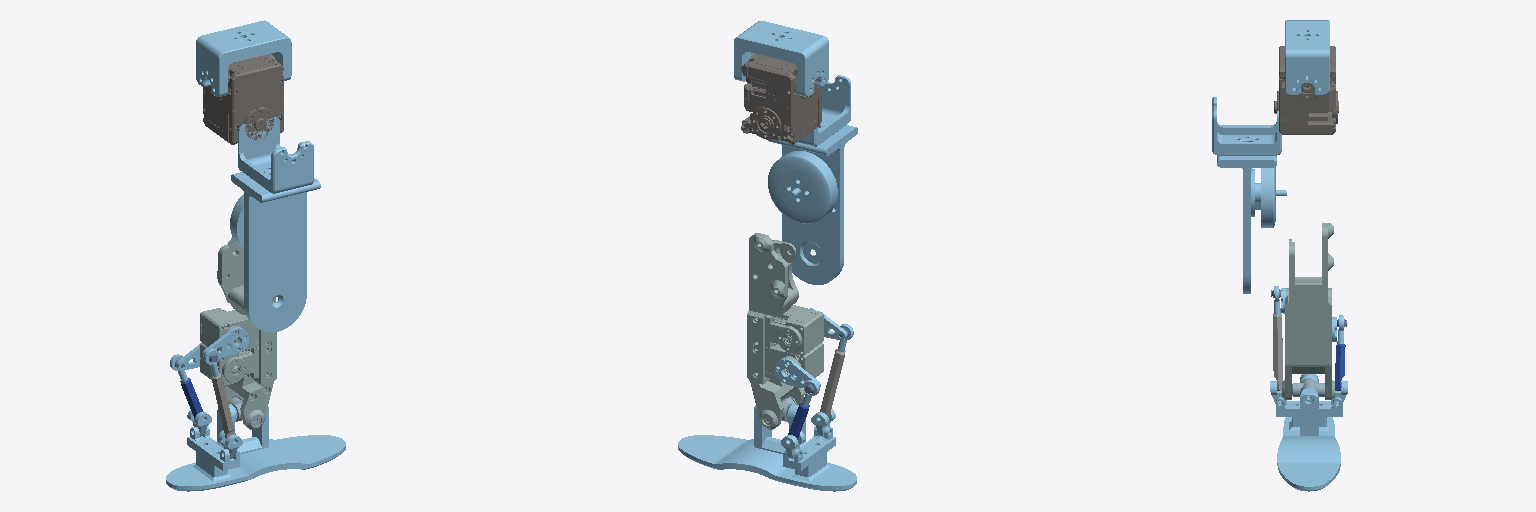
--- What the picture shows (computed from the rendered views, not written in the file) ---
3 views of the same robot in one strip: view 1: azimuth 30°, elevation 25°; view 2: azimuth 150°, elevation 25°; view 3: azimuth 270°, elevation 25° (orthographic).
Model right_leg with 20 links and 19 joints (15 revolute, 4 fixed), rooted at hip_yaw_link, posed all joints at 0.
Links seen in each view (by area): view 1: right_hip_pitch_link, right_calf_link, ank_roll_link, hip_roll_link, hip_yaw_link, ank_motor_arm, ank_motor_rod_long; view 2: right_hip_pitch_link, right_calf_link, ank_roll_link, hip_roll_link, hip_yaw_link, ank_motor_arm_2, ank_motor_rod_long; view 3: right_calf_link, ank_roll_link, right_hip_pitch_link, hip_yaw_link, hip_roll_link, ank_motor_rod_long.
Link boxes in pixels (left/top/right/bottom): right_hip_pitch_link: left=230, top=117, right=320, bottom=332; right_calf_link: left=200, top=236, right=276, bottom=429; ank_roll_link: left=166, top=404, right=345, bottom=491; hip_roll_link: left=203, top=54, right=283, bottom=144; hip_yaw_link: left=196, top=20, right=291, bottom=96; ank_motor_arm: left=203, top=327, right=248, bottom=356; ank_motor_rod_long: left=211, top=373, right=235, bottom=438; right_hip_pitch_link: left=768, top=75, right=857, bottom=284; right_calf_link: left=747, top=233, right=823, bottom=429; ank_roll_link: left=678, top=404, right=856, bottom=491; hip_roll_link: left=741, top=53, right=821, bottom=144; hip_yaw_link: left=734, top=21, right=828, bottom=96; ank_motor_arm_2: left=774, top=358, right=820, bottom=387; ank_motor_rod_long: left=820, top=349, right=845, bottom=417; right_calf_link: left=1282, top=223, right=1334, bottom=399; ank_roll_link: left=1276, top=374, right=1342, bottom=491; right_hip_pitch_link: left=1212, top=97, right=1286, bottom=293; hip_yaw_link: left=1285, top=20, right=1329, bottom=94; hip_roll_link: left=1274, top=46, right=1338, bottom=134; ank_motor_rod_long: left=1273, top=314, right=1282, bottom=390.
Bounding box of the posed robot: 0.12 × 0.0854 × 0.285 m (x, y, z).
16 mesh visuals loaded from 16 distinct referenced files (16 binary STL).

The robot description file, URDF, robot "right_leg":
<?xml version="1.0" ?><robot name="right_leg">  
  <link name="hip_yaw_link">    
    <visual>      
      <origin xyz="0 0 0" rpy="0 -0 0"/>      
      <geometry>        
        <mesh filename="package:///meshes/right_hip_yaw_link_visual.stl"/>        
      </geometry>      
      <material name="hip_yaw_link_material">        
        <color rgba="0.61568627450980395466 0.81176470588235294379 0.92941176470588238168 1.0"/>        
      </material>      
    </visual>    
    <collision>      
      <origin xyz="0 0 0" rpy="0 -0 0"/>      
      <geometry>        
        <mesh filename="package:///meshes/right_hip_yaw_link_collision.stl"/>        
      </geometry>      
    </collision>    
    <inertial>      
      <origin xyz="5.5101789230161922829e-19 9.4009488797797037098e-20 -0.0098390489054830110316" rpy="0 0 0"/>      
      <mass value="0.014999999999999990771"/>      
      <inertia ixx="2.1987528242869480731e-06" ixy="-8.3046343399290497215e-24" ixz="4.3612943327265431314e-52" iyy="6.383060996420640264e-06" iyz="-3.8298115821567070173e-34" izz="6.4350590059080327294e-06"/>      
    </inertial>    
  </link>  

  <link name="hip_roll_link">    
    <visual>      
      <origin xyz="0 0 0" rpy="0 -0 0"/>      
      <geometry>        
        <mesh filename="package:///meshes/right_hip_roll_link_visual.stl"/>        
      </geometry>      
      <material name="hip_roll_link_material">        
        <color rgba="0.51698661238356036218 0.50347815951093466413 0.49050589017722012741 1.0"/>        
      </material>      
    </visual>    
    <collision>      
      <origin xyz="0 0 0" rpy="0 -0 0"/>      
      <geometry>        
        <mesh filename="package:///meshes/right_hip_roll_link_collision.stl"/>        
      </geometry>      
    </collision>    
    <inertial>      
      <origin xyz="-0.011999849582183100272 -0.00049598090794401882876 -0.018504111838595651424" rpy="0 0 0"/>      
      <mass value="0.1069997065911066636"/>      
      <inertia ixx="2.2075996228674991587e-05" ixy="-4.50058018292882081e-08" ixz="-4.5362214342478000824e-08" iyy="2.9866686933523039235e-05" iyz="-5.5606319466522384661e-07" izz="2.9866720157734995072e-05"/>      
    </inertial>    
  </link>  

  <link name="right_hip_pitch_link">    
    <visual>      
      <origin xyz="0 0 0" rpy="0 -0 0"/>      
      <geometry>        
        <mesh filename="package:///meshes/right_hip_pitch_link_visual.stl"/>        
      </geometry>      
      <material name="right_hip_pitch_link_material">        
        <color rgba="0.60761611741666032849 0.79846263680522922002 0.91833701394314359856 1.0"/>        
      </material>      
    </visual>    
    <collision>      
      <origin xyz="0 0 0" rpy="0 -0 0"/>      
      <geometry>        
        <mesh filename="package:///meshes/right_hip_pitch_link_collision.stl"/>        
      </geometry>      
    </collision>    
    <inertial>      
      <origin xyz="8.0773941032231556651e-05 -0.052581417673651403843 -0.011655813262989971058" rpy="0 0 0"/>      
      <mass value="0.12009145853012415106"/>      
      <inertia ixx="9.2247097907494272451e-05" ixy="5.9897190638720253149e-07" ixz="1.239566333530411569e-08" iyy="2.7434742286976261763e-05" iyz="-8.4141503550328761664e-07" izz="9.3303662120062470157e-05"/>      
    </inertial>    
  </link>  

  <link name="right_calf_link">    
    <visual>      
      <origin xyz="0 0 0" rpy="0 -0 0"/>      
      <geometry>        
        <mesh filename="package:///meshes/right_calf_link_visual.stl"/>        
      </geometry>      
      <material name="right_calf_link_material">        
        <color rgba="0.64161931050581799685 0.73230206884914084142 0.73021281586259856322 1.0"/>        
      </material>      
    </visual>    
    <collision>      
      <origin xyz="0 0 0" rpy="0 -0 0"/>      
      <geometry>        
        <mesh filename="package:///meshes/right_calf_link_collision.stl"/>        
      </geometry>      
    </collision>    
    <inertial>      
      <origin xyz="0.0030643812386838991703 0.051918375094622055965 -0.01085927475208015025" rpy="0 0 0"/>      
      <mass value="0.063407494529051477983"/>      
      <inertia ixx="2.8410482789501486137e-05" ixy="-1.7540677336711103632e-06" ixz="3.8446484462633270127e-08" iyy="1.1034151196211163356e-05" iyz="-9.0161138709108048692e-07" izz="3.1472137678069492554e-05"/>      
    </inertial>    
  </link>  

  <link name="ank_pitch_link">    
    <visual>      
      <origin xyz="0 0 0" rpy="0 -0 0"/>      
      <geometry>        
        <mesh filename="package:///meshes/right_ank_pitch_link_visual.stl"/>        
      </geometry>      
      <material name="ank_pitch_link_material">        
        <color rgba="0.63189161126160264814 0.7266866879354088038 0.78356373393969258601 1.0"/>        
      </material>      
    </visual>    
    <collision>      
      <origin xyz="0 0 0" rpy="0 -0 0"/>      
      <geometry>        
        <mesh filename="package:///meshes/right_ank_pitch_link_collision.stl"/>        
      </geometry>      
    </collision>    
    <inertial>      
      <origin xyz="0.00059528282565905440201 -4.026968237856073645e-08 7.7616094775413567145e-08" rpy="0 0 0"/>      
      <mass value="0.0042238381753791614387"/>      
      <inertia ixx="3.9782741364674252612e-07" ixy="-1.6834347683449874045e-13" ixz="2.0919191901307310826e-14" iyy="4.3705254067417497816e-07" iyz="-1.6428822125511820307e-12" izz="8.8858574534599238027e-08"/>      
    </inertial>    
  </link>  

  <link name="ank_roll_link">    
    <visual>      
      <origin xyz="0 0 0" rpy="0 -0 0"/>      
      <geometry>        
        <mesh filename="package:///meshes/right_ank_roll_link_visual.stl"/>        
      </geometry>      
      <material name="ank_roll_link_material">        
        <color rgba="0.61568627450980395466 0.81176470588235294379 0.92941176470588238168 1.0"/>        
      </material>      
    </visual>    
    <collision>      
      <origin xyz="0 0 0" rpy="0 -0 0"/>      
      <geometry>        
        <mesh filename="package:///meshes/right_ank_roll_link_collision.stl"/>        
      </geometry>      
    </collision>    
    <inertial>      
      <origin xyz="-4.9483915195213484015e-08 0.028527110080362932942 0.00033102406006746133401" rpy="0 0 0"/>      
      <mass value="0.016673175342021003681"/>      
      <inertia ixx="1.4264178920929491951e-05" ixy="5.4052969499822033549e-12" ixz="8.4276466932434609379e-11" iyy="1.3727539914375788723e-05" iyz="-1.0838221665159015586e-06" izz="3.2785781319932111571e-06"/>      
    </inertial>    
  </link>  

  <link name="ank_rr_link">    
    <visual>      
      <origin xyz="0 0 0" rpy="0 -0 0"/>      
      <geometry>        
        <mesh filename="package:///meshes/right_ank_rr_link_visual.stl"/>        
      </geometry>      
      <material name="ank_rr_link_material">        
        <color rgba="0.61568627450980395466 0.81176470588235294379 0.92941176470588238168 1.0"/>        
      </material>      
    </visual>    
    <collision>      
      <origin xyz="0 0 0" rpy="0 -0 0"/>      
      <geometry>        
        <mesh filename="package:///meshes/right_ank_rr_link_collision.stl"/>        
      </geometry>      
    </collision>    
    <inertial>      
      <origin xyz="-4.5249610960598952601e-05 -0.0063096429836314582573 2.0068527260713881675e-19" rpy="0 0 0"/>      
      <mass value="0.00044406186452863177783"/>      
      <inertia ixx="9.1077331171855727491e-09" ixy="-7.4152655953211051008e-11" ixz="-1.0879024115017615136e-14" iyy="8.4004339691196240407e-09" iyz="1.7002107092962467306e-32" izz="1.3144828106018414972e-08"/>      
    </inertial>    
  </link>  

  <link name="closing_right_ank_rev_L2_2">    
    <inertial>      
      <origin xyz="0 0 0" rpy="0 0 0"/>      
      <mass value="1e-9"/>      
      <inertia ixx="0" ixy="0" ixz="0" iyy="0" iyz="0" izz="0"/>      
    </inertial>    
  </link>  
  <joint name="closing_right_ank_rev_L2_2_frame" type="fixed">    
    <origin xyz="0 -0.010000000000000064393 0" rpy="3.141592653589793116 -1.570796326794896558 0"/>    
    <parent link="ank_rr_link"/>    
    <child link="closing_right_ank_rev_L2_2"/>    
    <axis xyz="0 0 0"/>    
  </joint>  

  <joint name="right_ank_rev_L1" type="revolute">    
    <origin xyz="0.017999999999999991701 0.016000000000000041966 -0.020600000000000010664" rpy="-4.4094442971808565918e-15 3.8693527039724707646e-15 0.018223085042986159748"/>    
    <parent link="ank_roll_link"/>    
    <child link="ank_rr_link"/>    
    <axis xyz="0 0 1"/>    
    <limit effort="1" velocity="20" lower="-1.570796326794896558" upper="1.570796326794896558"/>    
    <joint_properties friction="0.0"/>    
  </joint>  

  <link name="ank_rr_link_2">    
    <visual>      
      <origin xyz="0 0 0" rpy="0 -0 0"/>      
      <geometry>        
        <mesh filename="package:///meshes/right_ank_rr_link_2_visual.stl"/>        
      </geometry>      
      <material name="ank_rr_link_2_material">        
        <color rgba="0.61568627450980395466 0.81176470588235294379 0.92941176470588238168 1.0"/>        
      </material>      
    </visual>    
    <collision>      
      <origin xyz="0 0 0" rpy="0 -0 0"/>      
      <geometry>        
        <mesh filename="package:///meshes/right_ank_rr_link_2_collision.stl"/>        
      </geometry>      
    </collision>    
    <inertial>      
      <origin xyz="-4.5249610960602428824e-05 0.0063096429836314591247 -2.0068527260726479664e-19" rpy="0 0 0"/>      
      <mass value="0.00044406186452863177783"/>      
      <inertia ixx="9.1077331171855694404e-09" ixy="7.4152655953211051008e-11" ixz="1.087902411501761198e-14" iyy="8.4004339691196273494e-09" iyz="2.7884735617155562318e-32" izz="1.3144828106018414972e-08"/>      
    </inertial>    
  </link>  

  <link name="closing_right_ank_rev_S2_2">    
    <inertial>      
      <origin xyz="0 0 0" rpy="0 0 0"/>      
      <mass value="1e-9"/>      
      <inertia ixx="0" ixy="0" ixz="0" iyy="0" iyz="0" izz="0"/>      
    </inertial>    
  </link>  
  <joint name="closing_right_ank_rev_S2_2_frame" type="fixed">    
    <origin xyz="3.4694469519536141888e-18 0.0099999999999999533706 0" rpy="-2.5631746085143961934e-18 1.570796326794896558 0"/>    
    <parent link="ank_rr_link_2"/>    
    <child link="closing_right_ank_rev_S2_2"/>    
    <axis xyz="0 0 0"/>    
  </joint>  

  <joint name="right_ank_rev_S1" type="revolute">    
    <origin xyz="-0.018000000000000015987 0.016000000000000041966 -0.020600000000000000255" rpy="1.4371364039343547967e-14 2.2835971399963788062e-14 3.115474105082522982"/>    
    <parent link="ank_roll_link"/>    
    <child link="ank_rr_link_2"/>    
    <axis xyz="0 0 1"/>    
    <limit effort="1" velocity="20" lower="-1.570796326794896558" upper="1.570796326794896558"/>    
    <joint_properties friction="0.0"/>    
  </joint>  

  <joint name="right_ank_roll" type="revolute">    
    <origin xyz="0.001499999999999998947 2.7755575615628913511e-17 -4.9873299934333203964e-18" rpy="-3.141592653589793116 -1.5707963267948870101 0"/>    
    <parent link="ank_pitch_link"/>    
    <child link="ank_roll_link"/>    
    <axis xyz="0 0 1"/>    
    <limit effort="1" velocity="20" lower="-0.785398163397448279" upper="0.785398163397448279"/>    
    <joint_properties friction="0.0"/>    
  </joint>  

  <joint name="right_ank_pitch" type="revolute">    
    <origin xyz="3.0227701397881363998e-17 0.10000000000000000555 -0.010799999999999960673" rpy="-9.4739079309987039513e-16 -3.3792726492822699499e-27 3.1415926535897855665"/>    
    <parent link="right_calf_link"/>    
    <child link="ank_pitch_link"/>    
    <axis xyz="0 0 1"/>    
    <limit effort="1" velocity="20" lower="-0.785398163397448279" upper="0.95993108859688125456"/>    
    <joint_properties friction="0.0"/>    
  </joint>  

  <link name="ank_motor_arm">    
    <visual>      
      <origin xyz="0 0 0" rpy="0 -0 0"/>      
      <geometry>        
        <mesh filename="package:///meshes/right_ank_motor_arm_visual.stl"/>        
      </geometry>      
      <material name="ank_motor_arm_material">        
        <color rgba="0.61568627450980395466 0.81176470588235294379 0.92941176470588238168 1.0"/>        
      </material>      
    </visual>    
    <collision>      
      <origin xyz="0 0 0" rpy="0 -0 0"/>      
      <geometry>        
        <mesh filename="package:///meshes/right_ank_motor_arm_collision.stl"/>        
      </geometry>      
    </collision>    
    <inertial>      
      <origin xyz="0.0060871522238996099777 -1.8308909993408390959e-18 0.0014415996041339243158" rpy="0 0 0"/>      
      <mass value="0.00081249023041677498336"/>      
      <inertia ixx="1.258116822607804934e-08" ixy="-2.1432356807951258934e-25" ixz="-3.0436827602313046902e-10" iyy="5.1146616052620583155e-08" iyz="2.0005602337589400784e-27" izz="6.2546224268964395239e-08"/>      
    </inertial>    
  </link>  

  <link name="ball_joint_ball">    
    <visual>      
      <origin xyz="0 0 0" rpy="0 -0 0"/>      
      <geometry>        
        <mesh filename="package:///meshes/right_ball_joint_ball_visual.stl"/>        
      </geometry>      
      <material name="ball_joint_ball_material">        
        <color rgba="0.46677092258406521763 0.53140243424371769176 0.67257126234243258533 1.0"/>        
      </material>      
    </visual>    
    <collision>      
      <origin xyz="0 0 0" rpy="0 -0 0"/>      
      <geometry>        
        <mesh filename="package:///meshes/right_ball_joint_ball_collision.stl"/>        
      </geometry>      
    </collision>    
    <inertial>      
      <origin xyz="-6.6896809081545446615e-19 5.97689178889193649e-18 0.0027461895781546196739" rpy="0 0 0"/>      
      <mass value="0.00010858471987832157455"/>      
      <inertia ixx="6.6064515645817736705e-10" ixy="9.7187098782978794175e-26" ixz="9.1178909240945178245e-26" iyy="6.6066781021719541838e-10" iyz="2.9232164406625283156e-23" izz="4.0240894440645418758e-10"/>      
    </inertial>    
  </link>  

  <link name="ball_joint_container">    
    <visual>      
      <origin xyz="0 0 0" rpy="0 -0 0"/>      
      <geometry>        
        <mesh filename="package:///meshes/right_ball_joint_container_visual.stl"/>        
      </geometry>      
      <material name="ball_joint_container_material">        
        <color rgba="0.61568627450980395466 0.81176470588235294379 0.92941176470588238168 1.0"/>        
      </material>      
    </visual>    
    <collision>      
      <origin xyz="0 0 0" rpy="0 -0 0"/>      
      <geometry>        
        <mesh filename="package:///meshes/right_ball_joint_container_collision.stl"/>        
      </geometry>      
    </collision>    
    <inertial>      
      <origin xyz="-3.8796629846704810741e-18 -0.0027410199203514451494 -1.3308374583805715367e-17" rpy="0 0 0"/>      
      <mass value="0.00012018994143287794086"/>      
      <inertia ixx="3.7034315414442082721e-09" ixy="8.9294659341090581404e-27" ixz="-5.9074981957292945883e-16" iyy="9.0987209906188446842e-10" iyz="4.3431997068468714822e-26" izz="3.0460653612632305448e-09"/>      
    </inertial>    
  </link>  

  <link name="ank_motor_rod_long">    
    <visual>      
      <origin xyz="0 0 0" rpy="0 -0 0"/>      
      <geometry>        
        <mesh filename="package:///meshes/right_ank_motor_rod_long_visual.stl"/>        
      </geometry>      
      <material name="ank_motor_rod_long_material">        
        <color rgba="0.64705882352941179736 0.64705882352941179736 0.64705882352941179736 1.0"/>        
      </material>      
    </visual>    
    <collision>      
      <origin xyz="0 0 0" rpy="0 -0 0"/>      
      <geometry>        
        <mesh filename="package:///meshes/right_ank_motor_rod_long_collision.stl"/>        
      </geometry>      
    </collision>    
    <inertial>      
      <origin xyz="-9.7346416373003674671e-05 1.0182869582321401502e-06 -0.024100608682741296585" rpy="0 0 0"/>      
      <mass value="0.0013712857268636708969"/>      
      <inertia ixx="2.3699073636531186641e-07" ixy="-2.6102107799917087342e-12" ixz="-2.6767215486534995938e-09" iyy="2.3674128656418915843e-07" iyz="2.7996932450539675711e-11" izz="7.1763054928100996059e-09"/>      
    </inertial>    
  </link>  

  <link name="closing_right_ank_rev_L2_1">    
    <inertial>      
      <origin xyz="0 0 0" rpy="0 0 0"/>      
      <mass value="1e-9"/>      
      <inertia ixx="0" ixy="0" ixz="0" iyy="0" iyz="0" izz="0"/>      
    </inertial>    
  </link>  
  <joint name="closing_right_ank_rev_L2_1_frame" type="fixed">    
    <origin xyz="-0.00099994533629822746068 1.0455831645633795191e-05 -0.045999999999999985345" rpy="1.570796326794896558 -2.8188971864374840609e-17 1.5603403046269419541"/>    
    <parent link="ank_motor_rod_long"/>    
    <child link="closing_right_ank_rev_L2_1"/>    
    <axis xyz="0 0 0"/>    
  </joint>  

  <joint name="right_ank_ball_L3" type="revolute">    
    <origin xyz="-1.0408340855860842566e-17 -0.013000000000000011546 1.3877787807814456755e-17" rpy="-1.570796326794896558 0.0061458554436690055953 -4.8644952545361881732e-16"/>    
    <parent link="ball_joint_container"/>    
    <child link="ank_motor_rod_long"/>    
    <axis xyz="0 0 1"/>    
    <limit effort="1" velocity="20" lower="-1.570796326794896558" upper="1.570796326794896558"/>    
    <joint_properties friction="0.0"/>    
  </joint>  

  <joint name="right_ank_ball_L2" type="revolute">    
    <origin xyz="-2.7755575615628913511e-17 1.3877787807814456755e-17 0.0028266588050205147808" rpy="1.5707963267948927832 -1.553090247818769587 -2.4287402208590411845e-15"/>    
    <parent link="ball_joint_ball"/>    
    <child link="ball_joint_container"/>    
    <axis xyz="0 0 1"/>    
    <limit effort="1" velocity="20" lower="-0.785398163397448279" upper="0.785398163397448279"/>    
    <joint_properties friction="0.0"/>    
  </joint>  

  <joint name="right_ank_ball_L1" type="revolute">    
    <origin xyz="0.019999999999999990008 2.7755575615628913511e-17 0.0030000000000000009298" rpy="2.2437352798241120098e-17 -9.3184397210051753059e-16 1.5978601720098710715"/>    
    <parent link="ank_motor_arm"/>    
    <child link="ball_joint_ball"/>    
    <axis xyz="0 0 1"/>    
    <limit effort="1" velocity="20" lower="-1.570796326794896558" upper="1.570796326794896558"/>    
    <joint_properties friction="0.0"/>    
  </joint>  

  <joint name="right_ank_act_1" type="revolute">    
    <origin xyz="0.013499999999996349989 0.044500000000006978418 0.0036000000000021049884" rpy="-3.3664206006817568194e-13 -5.4090387307312932505e-14 0.21173394130150291481"/>    
    <parent link="right_calf_link"/>    
    <child link="ank_motor_arm"/>    
    <axis xyz="0 0 1"/>    
    <limit effort="1" velocity="20" lower="-1.570796326794896558" upper="1.570796326794896558"/>    
    <joint_properties friction="0.0"/>    
  </joint>  

  <link name="ank_motor_arm_2">    
    <visual>      
      <origin xyz="0 0 0" rpy="0 -0 0"/>      
      <geometry>        
        <mesh filename="package:///meshes/right_ank_motor_arm_2_visual.stl"/>        
      </geometry>      
      <material name="ank_motor_arm_2_material">        
        <color rgba="0.61568627450980395466 0.81176470588235294379 0.92941176470588238168 1.0"/>        
      </material>      
    </visual>    
    <collision>      
      <origin xyz="0 0 0" rpy="0 -0 0"/>      
      <geometry>        
        <mesh filename="package:///meshes/right_ank_motor_arm_2_collision.stl"/>        
      </geometry>      
    </collision>    
    <inertial>      
      <origin xyz="0.0060871522238996091103 -1.8465792797780258162e-18 0.0014415996041339243158" rpy="0 0 0"/>      
      <mass value="0.00081249023041677498336"/>      
      <inertia ixx="1.2581168226078046031e-08" ixy="-1.9242439983960606411e-25" ixz="-3.0436827602313041732e-10" iyy="5.114661605262056992e-08" iyz="2.7850017485702962572e-27" izz="6.2546224268964395239e-08"/>      
    </inertial>    
  </link>  

  <link name="ball_joint_ball_2">    
    <visual>      
      <origin xyz="0 0 0" rpy="0 -0 0"/>      
      <geometry>        
        <mesh filename="package:///meshes/right_ball_joint_ball_2_visual.stl"/>        
      </geometry>      
      <material name="ball_joint_ball_2_material">        
        <color rgba="0.46677092258406521763 0.53140243424371769176 0.67257126234243258533 1.0"/>        
      </material>      
    </visual>    
    <collision>      
      <origin xyz="0 0 0" rpy="0 -0 0"/>      
      <geometry>        
        <mesh filename="package:///meshes/right_ball_joint_ball_2_collision.stl"/>        
      </geometry>      
    </collision>    
    <inertial>      
      <origin xyz="-1.2560721515384612684e-17 -1.9941113688424229433e-17 0.0027461895781546214086" rpy="0 0 0"/>      
      <mass value="0.00010858471987832157455"/>      
      <inertia ixx="6.6064515645821076447e-10" ixy="-3.0176264260949983913e-25" ixz="-1.9399159043503863834e-25" iyy="6.6066781021722850561e-10" iyz="2.9219419132250446908e-25" izz="4.0240894440645403248e-10"/>      
    </inertial>    
  </link>  

  <link name="ball_joint_container_2">    
    <visual>      
      <origin xyz="0 0 0" rpy="0 -0 0"/>      
      <geometry>        
        <mesh filename="package:///meshes/right_ball_joint_container_2_visual.stl"/>        
      </geometry>      
      <material name="ball_joint_container_2_material">        
        <color rgba="0.61568627450980395466 0.81176470588235294379 0.92941176470588238168 1.0"/>        
      </material>      
    </visual>    
    <collision>      
      <origin xyz="0 0 0" rpy="0 -0 0"/>      
      <geometry>        
        <mesh filename="package:///meshes/right_ball_joint_container_2_collision.stl"/>        
      </geometry>      
    </collision>    
    <inertial>      
      <origin xyz="-4.0133440651590904688e-19 -0.0027410199203514729049 1.4416500497882479359e-17" rpy="0 0 0"/>      
      <mass value="0.00012018994143287794086"/>      
      <inertia ixx="3.7034315414442082721e-09" ixy="-1.5433838099016139987e-26" ixz="-5.9074981958037127679e-16" iyy="9.0987209906188446842e-10" iyz="8.8209636787008113388e-26" izz="3.0460653612632305448e-09"/>      
    </inertial>    
  </link>  

  <link name="ank_motor_rod_short">    
    <visual>      
      <origin xyz="0 0 0" rpy="0 -0 0"/>      
      <geometry>        
        <mesh filename="package:///meshes/right_ank_motor_rod_short_visual.stl"/>        
      </geometry>      
      <material name="ank_motor_rod_short_material">        
        <color rgba="0.2313725490196078538 0.38039215686274507888 0.70588235294117662733 1.0"/>        
      </material>      
    </visual>    
    <collision>      
      <origin xyz="0 0 0" rpy="0 -0 0"/>      
      <geometry>        
        <mesh filename="package:///meshes/right_ank_motor_rod_short_collision.stl"/>        
      </geometry>      
    </collision>    
    <inertial>      
      <origin xyz="-0.00018125718822256664531 1.8957901221527457458e-06 -0.014161547524153638919" rpy="0 0 0"/>      
      <mass value="0.00073646453671346689789"/>      
      <inertia ixx="4.8268216337600216335e-08" ixy="-2.7267361279487227202e-12" ixz="-1.4004321319276446064e-09" iyy="4.8007565255284155518e-08" iyz="1.4646474015460912981e-11" izz="3.9909990774867184227e-09"/>      
    </inertial>    
  </link>  

  <link name="closing_right_ank_rev_S2_1">    
    <inertial>      
      <origin xyz="0 0 0" rpy="0 0 0"/>      
      <mass value="1e-9"/>      
      <inertia ixx="0" ixy="0" ixz="0" iyy="0" iyz="0" izz="0"/>      
    </inertial>    
  </link>  
  <joint name="closing_right_ank_rev_S2_1_frame" type="fixed">    
    <origin xyz="-0.00099994533629824480792 1.0455831645606039615e-05 -0.026499999999999995781" rpy="1.570796326794896558 -2.3424437680691162737e-17 1.5603403046269499477"/>    
    <parent link="ank_motor_rod_short"/>    
    <child link="closing_right_ank_rev_S2_1"/>    
    <axis xyz="0 0 0"/>    
  </joint>  

  <joint name="right_ank_ball_S3" type="revolute">    
    <origin xyz="0 -0.013000000000000011546 1.3877787807814456755e-17" rpy="1.570796326794896558 -0.019631431462880346434 -3.141592653589793116"/>    
    <parent link="ball_joint_container_2"/>    
    <child link="ank_motor_rod_short"/>    
    <axis xyz="0 0 1"/>    
    <limit effort="1" velocity="20" lower="-1.570796326794896558" upper="1.570796326794896558"/>    
    <joint_properties friction="0.0"/>    
  </joint>  

  <joint name="right_ank_ball_S2" type="revolute">    
    <origin xyz="2.7755575615628913511e-17 0 0.0028266588050205147808" rpy="1.5707963267948981123 1.5463421405919186569 -3.1415926535897615857"/>    
    <parent link="ball_joint_ball_2"/>    
    <child link="ball_joint_container_2"/>    
    <axis xyz="0 0 1"/>    
    <limit effort="1" velocity="20" lower="-0.785398163397448279" upper="0.785398163397448279"/>    
    <joint_properties friction="0.0"/>    
  </joint>  

  <joint name="right_ank_ball_S1" type="revolute">    
    <origin xyz="0.019999999999999892863 -5.5511151231257827021e-17 0.0030000000000001050132" rpy="-4.1932123250748176672e-15 1.0094902775150862849e-14 -1.6998353895880471409"/>    
    <parent link="ank_motor_arm_2"/>    
    <child link="ball_joint_ball_2"/>    
    <axis xyz="0 0 1"/>    
    <limit effort="1" velocity="20" lower="-1.570796326794896558" upper="1.570796326794896558"/>    
    <joint_properties friction="0.0"/>    
  </joint>  

  <joint name="right_ank_act_2" type="revolute">    
    <origin xyz="0.013500000000003451947 0.064500000000007690071 -0.02520000000000061427" rpy="-3.1415926535895501992 -2.0043939315392612859e-13 0.22995607267269219109"/>    
    <parent link="right_calf_link"/>    
    <child link="ank_motor_arm_2"/>    
    <axis xyz="0 0 1"/>    
    <limit effort="1" velocity="20" lower="-1.570796326794896558" upper="1.570796326794896558"/>    
    <joint_properties friction="0.0"/>    
  </joint>  

  <joint name="right_knee" type="revolute">    
    <origin xyz="-7.3809043265734742862e-18 -0.095999999999999960365 -0.0092000000000004647505" rpy="-1.5931011152737801319e-16 2.6628384104697546258e-16 -3.1415926535897873428"/>    
    <parent link="right_hip_pitch_link"/>    
    <child link="right_calf_link"/>    
    <axis xyz="0 0 1"/>    
    <limit effort="1" velocity="20" lower="-1.9198621771937625091" upper="0"/>    
    <joint_properties friction="0.0"/>    
  </joint>  

  <joint name="right_hip_pitch" type="revolute">    
    <origin xyz="-0.024000000716142617929 -0.01900000015244446977 -0.019000000152450562119" rpy="1.5707963267950879604 1.5707963267947180341 0"/>    
    <parent link="hip_roll_link"/>    
    <child link="right_hip_pitch_link"/>    
    <axis xyz="0 0 1"/>    
    <limit effort="1" velocity="20" lower="-1.570796326794896558" upper="1.570796326794896558"/>    
    <joint_properties friction="0.0"/>    
  </joint>  

  <joint name="right_hip_roll" type="revolute">    
    <origin xyz="-0.019000000000000818318 3.4197469684896360212e-16 -0.026000000000000959843" rpy="-2.5681636235613216278e-28 -1.5707963267948938935 0"/>    
    <parent link="hip_yaw_link"/>    
    <child link="hip_roll_link"/>    
    <axis xyz="0 0 1"/>    
    <limit effort="1" velocity="20" lower="-0.785398163397448279" upper="1.570796326794896558"/>    
    <joint_properties friction="0.0"/>    
  </joint>  


</robot>
